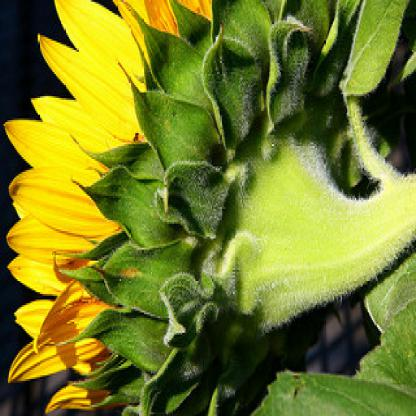SUN FLOWER: (19, 12, 391, 395)
